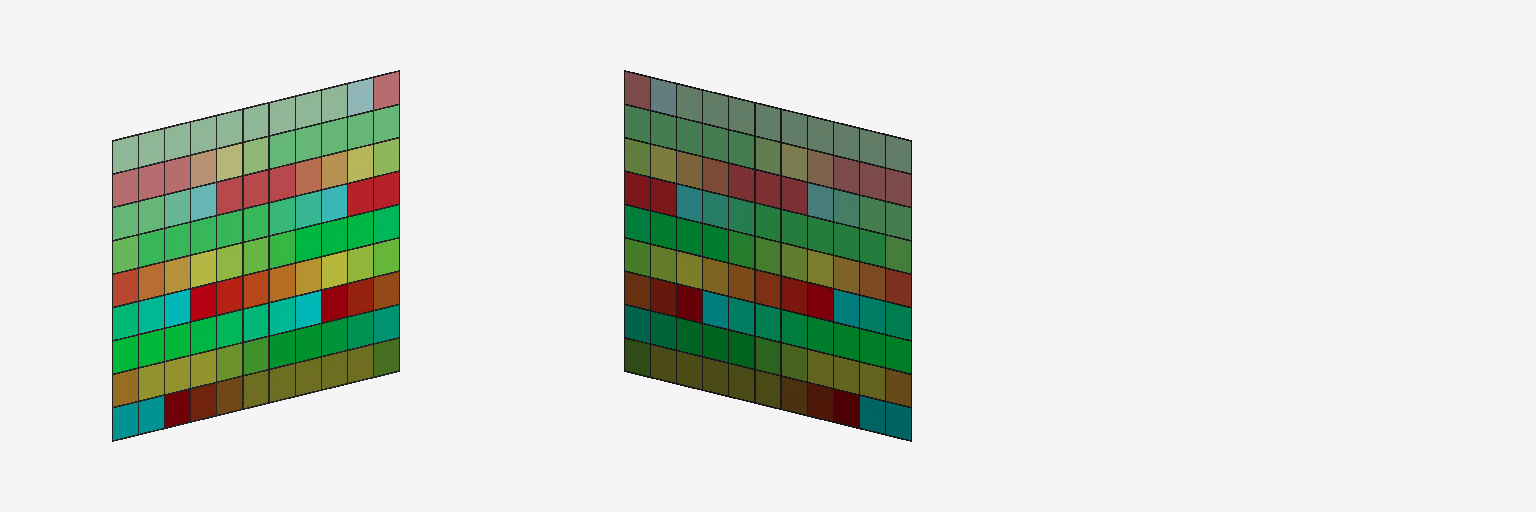
3 renders of one model, left to right at view 1: azimuth 30°, elevation 25°; view 2: azimuth 150°, elevation 25°; view 3: azimuth 270°, elevation 25°, orthographic.
Parts seen in each view (by area): view 1: plane; view 2: plane; view 3: none.
Part boxes in pixels (bbox=[...]): plane: bbox=[112, 70, 399, 441]; plane: bbox=[624, 70, 911, 441].
Size of the model in its own units: 1 by 1 by 0.
Materials: 1 (1 with a texture image).